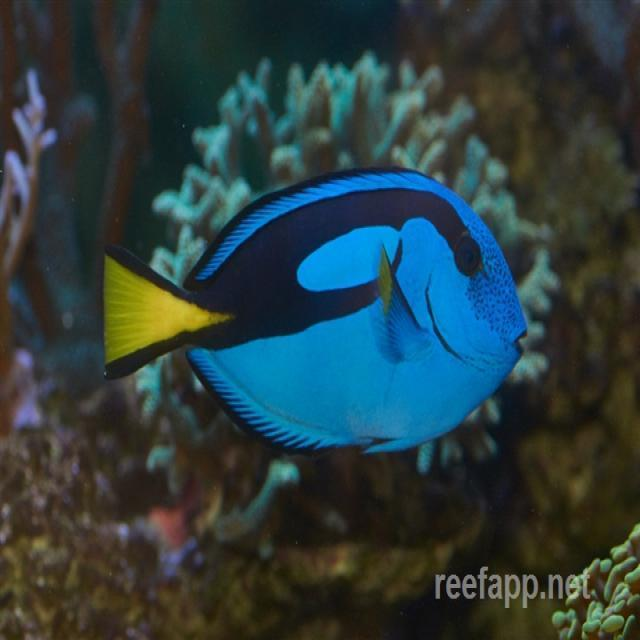TangFish: (95, 162, 528, 460)
